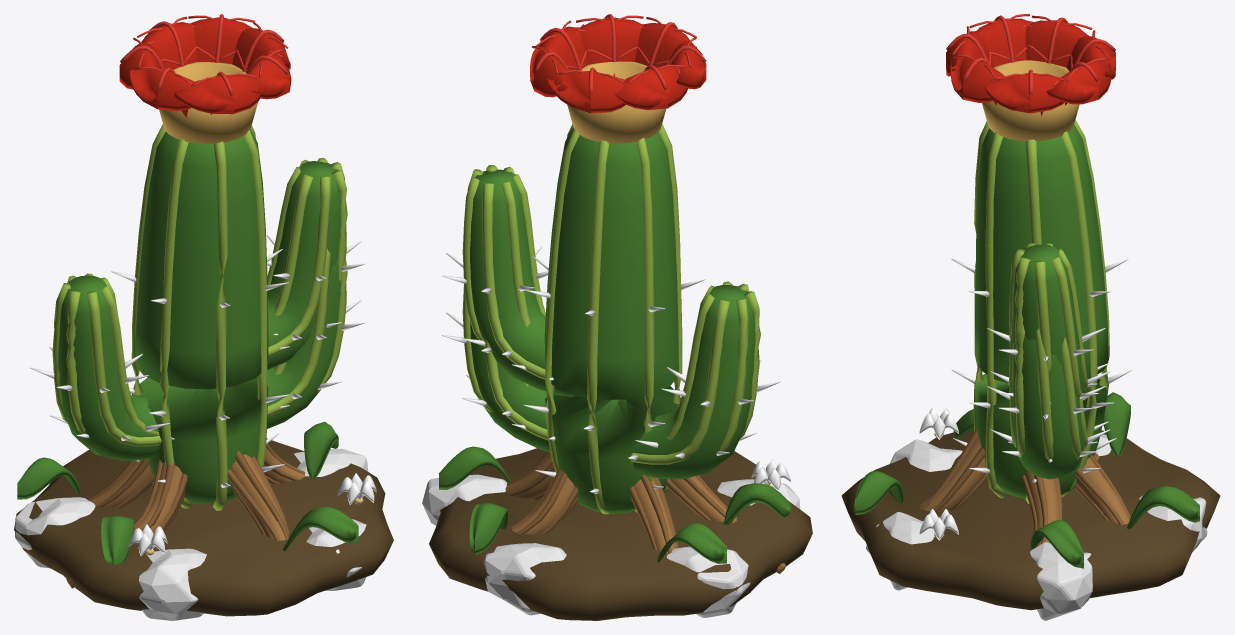
File: cactus-2.fbx
3 renders of one model, left to right at view 1: azimuth 30°, elevation 25°; view 2: azimuth 150°, elevation 25°; view 3: azimuth 270°, elevation 25°, orthographic. The views are drawn at different scales.
Visible parts, largest first — view 1: Turret_PortalBamboo, Petals_PortalBamboo, cactus-2_Organic, Spines_Petal, cactus-2_Bark, cactus-2_Stone, cactus-2_PortalBamboo, CactusMuzzle, Petals_Organic, cactus-2_Petal, Turret_Organic; view 2: Turret_PortalBamboo, Petals_PortalBamboo, cactus-2_Organic, Spines_Petal, cactus-2_Stone, cactus-2_Bark, cactus-2_PortalBamboo, CactusMuzzle, Petals_Organic, Turret_Organic, cactus-2_Petal; view 3: cactus-2_Organic, Turret_PortalBamboo, Petals_PortalBamboo, Spines_Petal, cactus-2_Stone, cactus-2_Bark, cactus-2_PortalBamboo, CactusMuzzle, Petals_Organic, cactus-2_Petal, Turret_Organic.
Part boxes in pixels (left/top/right/bottom): Turret_PortalBamboo: left=131, top=124, right=268, bottom=510; Petals_PortalBamboo: left=52, top=158, right=347, bottom=461; cactus-2_Organic: left=14, top=438, right=393, bottom=616; Spines_Petal: left=119, top=14, right=291, bottom=117; cactus-2_Bark: left=66, top=443, right=305, bottom=588; cactus-2_Stone: left=15, top=448, right=368, bottom=620; cactus-2_PortalBamboo: left=17, top=421, right=358, bottom=565; CactusMuzzle: left=159, top=62, right=257, bottom=143; Petals_Organic: left=30, top=235, right=365, bottom=440; cactus-2_Petal: left=128, top=473, right=376, bottom=555; Turret_Organic: left=111, top=249, right=288, bottom=487; Turret_PortalBamboo: left=544, top=124, right=682, bottom=514; Petals_PortalBamboo: left=462, top=165, right=760, bottom=479; cactus-2_Organic: left=429, top=448, right=812, bottom=620; Spines_Petal: left=530, top=14, right=706, bottom=113; cactus-2_Stone: left=422, top=474, right=800, bottom=617; cactus-2_Bark: left=505, top=452, right=786, bottom=573; cactus-2_PortalBamboo: left=439, top=446, right=791, bottom=563; CactusMuzzle: left=567, top=61, right=665, bottom=143; Petals_Organic: left=442, top=247, right=780, bottom=460; Turret_Organic: left=523, top=256, right=705, bottom=493; cactus-2_Petal: left=751, top=459, right=790, bottom=491; cactus-2_Organic: left=841, top=430, right=1220, bottom=610; Turret_PortalBamboo: left=973, top=119, right=1109, bottom=503; Petals_PortalBamboo: left=1009, top=243, right=1087, bottom=479; Spines_Petal: left=946, top=14, right=1115, bottom=116; cactus-2_Stone: left=866, top=429, right=1207, bottom=620; cactus-2_Bark: left=919, top=427, right=1130, bottom=545; cactus-2_PortalBamboo: left=854, top=392, right=1199, bottom=568; CactusMuzzle: left=982, top=60, right=1079, bottom=141; Petals_Organic: left=987, top=328, right=1110, bottom=462; cactus-2_Petal: left=919, top=408, right=958, bottom=540; Turret_Organic: left=951, top=259, right=1131, bottom=482.
Bounding box in the file's own units: 82.07 × 122 × 82.7.
